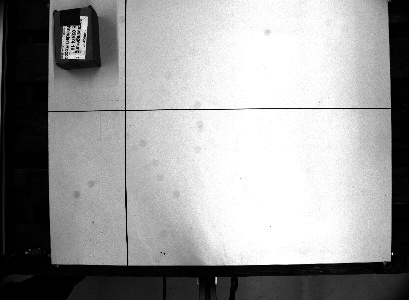b6: (49, 3, 102, 72)
